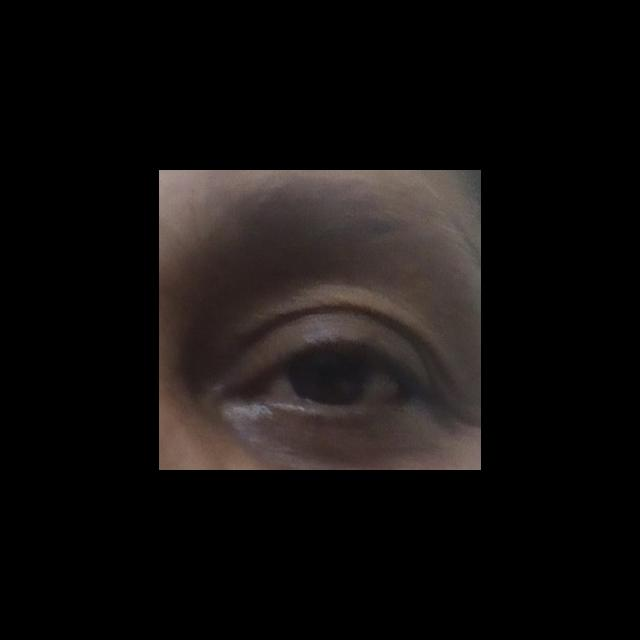eye: (262, 349, 407, 409)
iris: (290, 356, 372, 403)
